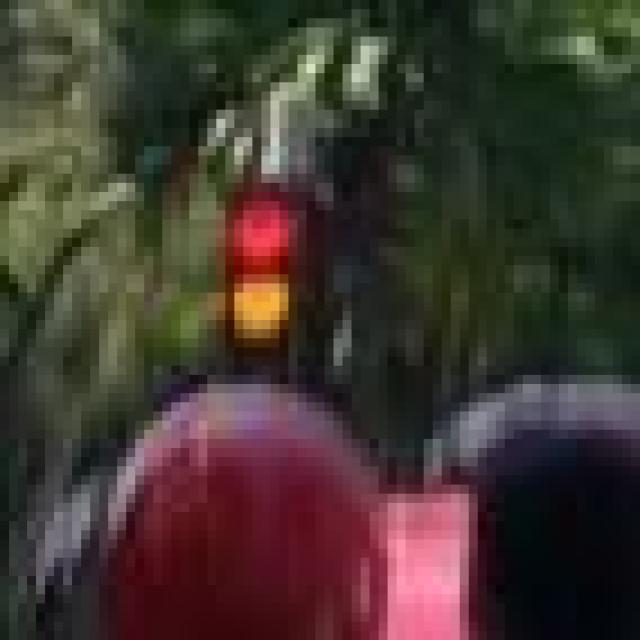yellow_light: (226, 174, 316, 394)
